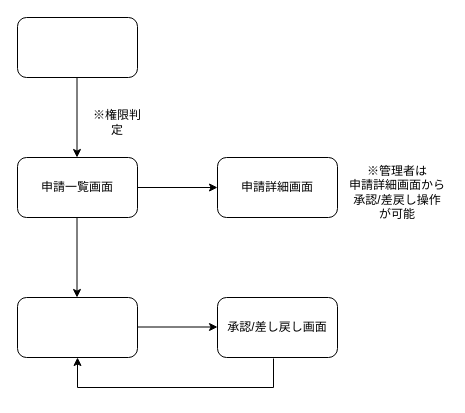
This 465x413 diagram has some shape labels left out. The centre of each missing label's shape, as x and y in pixels:
"ログイン画面" belongs at point (77, 47).
"申請作成画面" belongs at point (77, 327).
